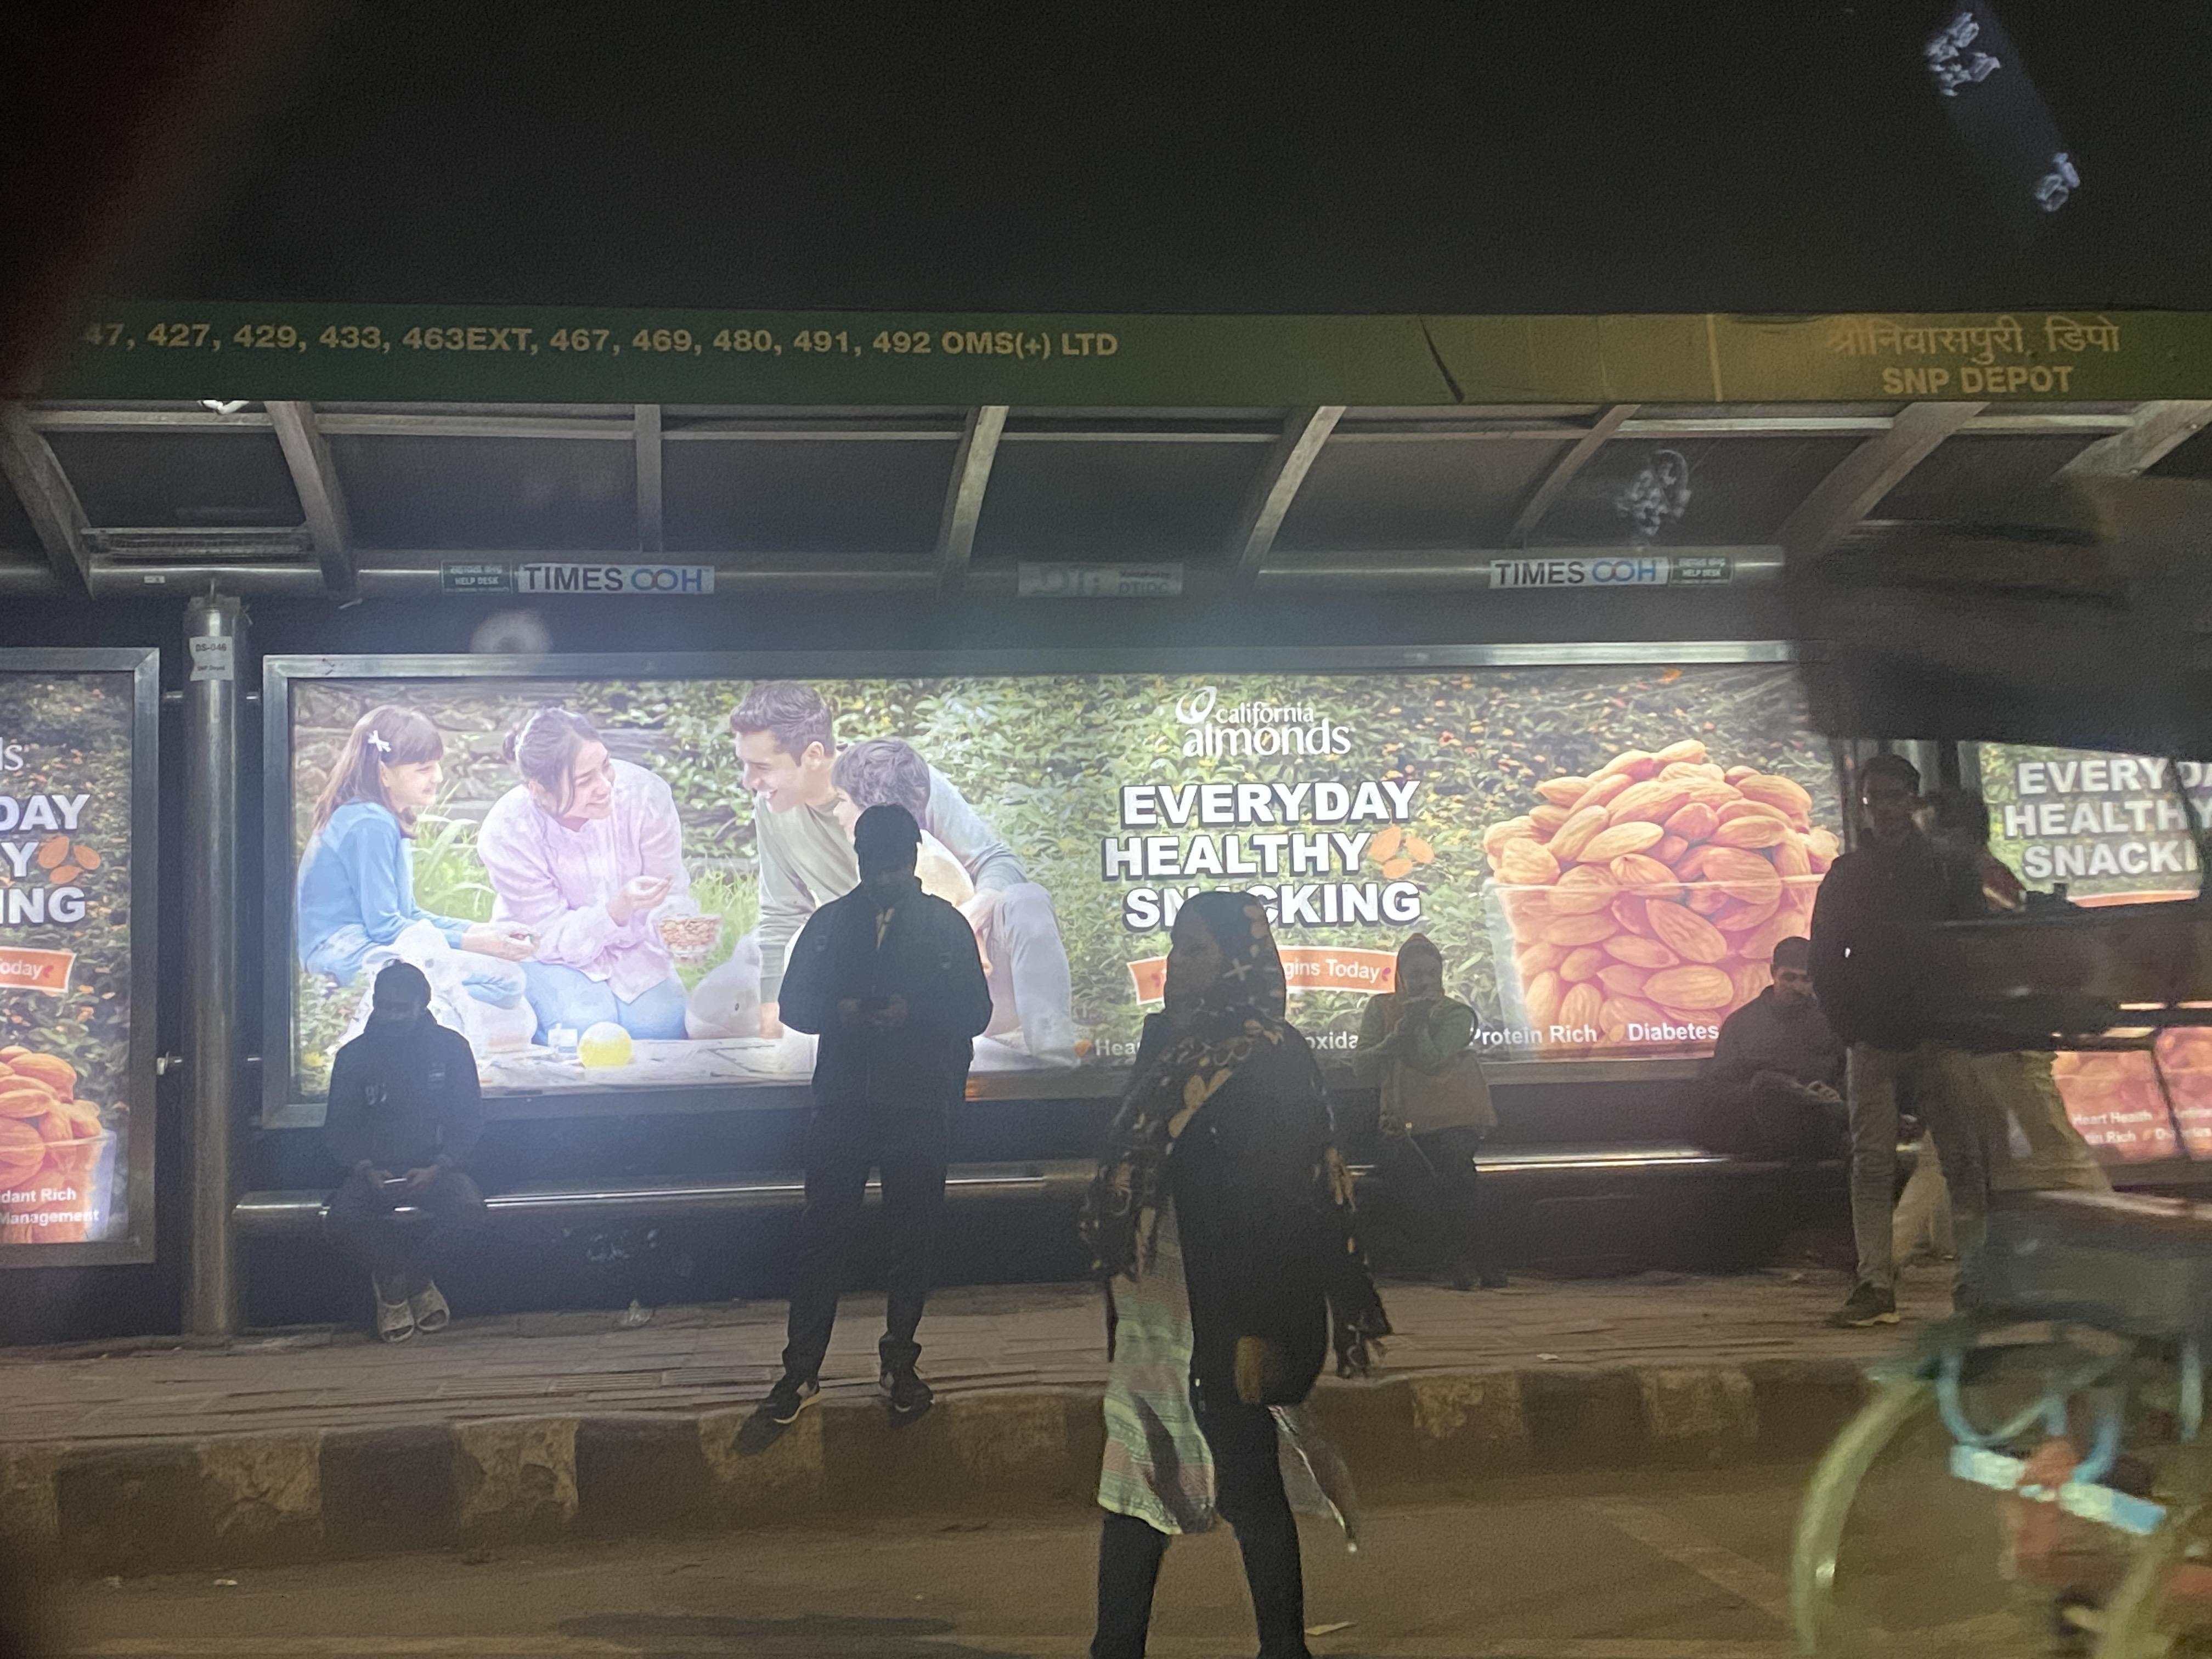Bus-stop-board: (38, 281, 2212, 460)
